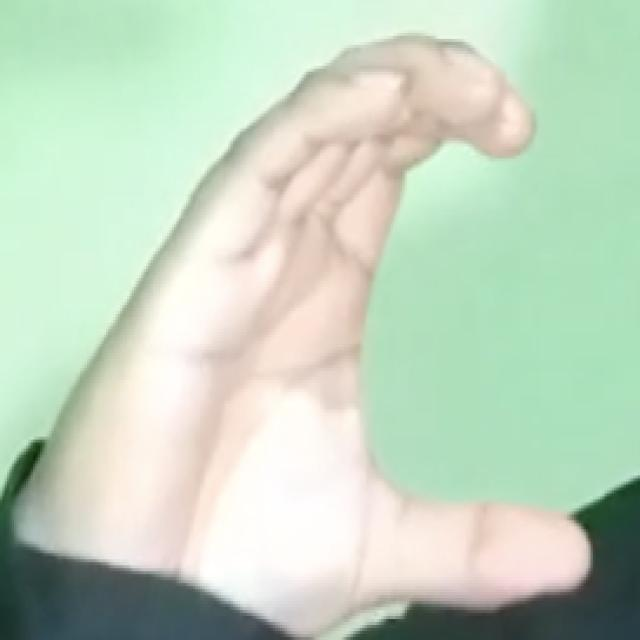C: (43, 23, 597, 616)
